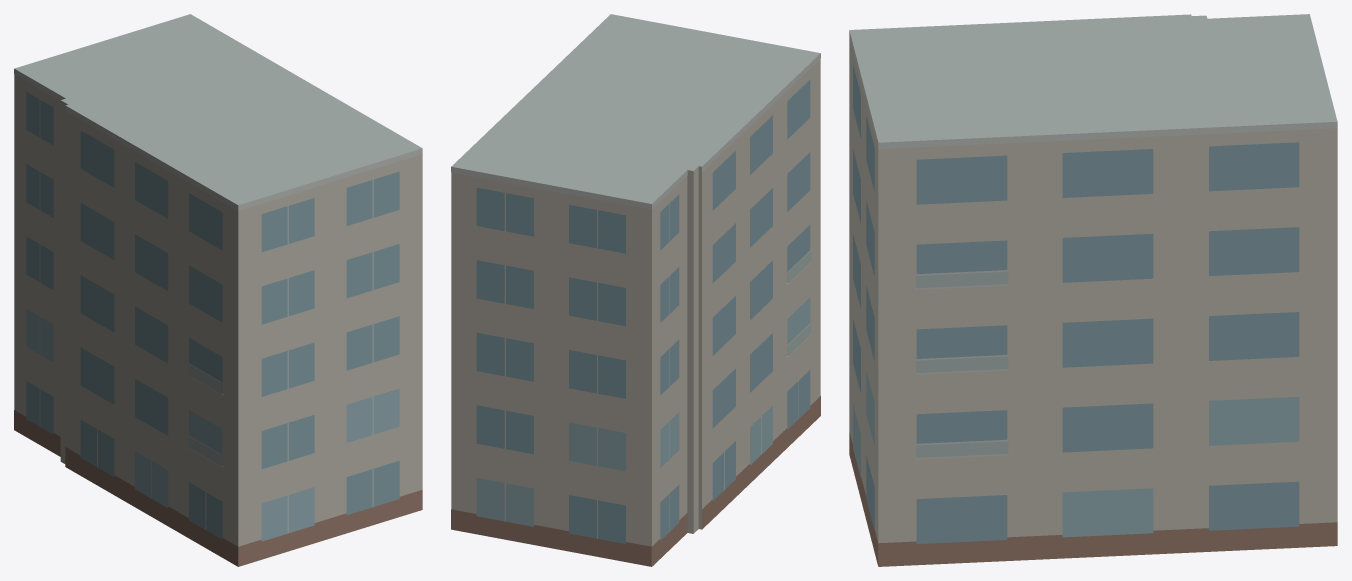
Rendered from survey-upis-32746290.glb.
3 views of the same model, side by side, from view 1: azimuth 30°, elevation 25°; view 2: azimuth 150°, elevation 25°; view 3: azimuth 270°, elevation 25° (orthographic). The views are drawn at different scales.
Parts seen in each view (by area): view 1: survey-upis-32746290.tmp; view 2: survey-upis-32746290.tmp; view 3: survey-upis-32746290.tmp.
Boxes of the visible parts, <box> form: survey-upis-32746290.tmp: <box>14,14,422,566</box>; survey-upis-32746290.tmp: <box>451,14,820,566</box>; survey-upis-32746290.tmp: <box>849,14,1337,566</box>.
Bounding box in the file's own units: 10.22 × 15.7 × 16.39.
